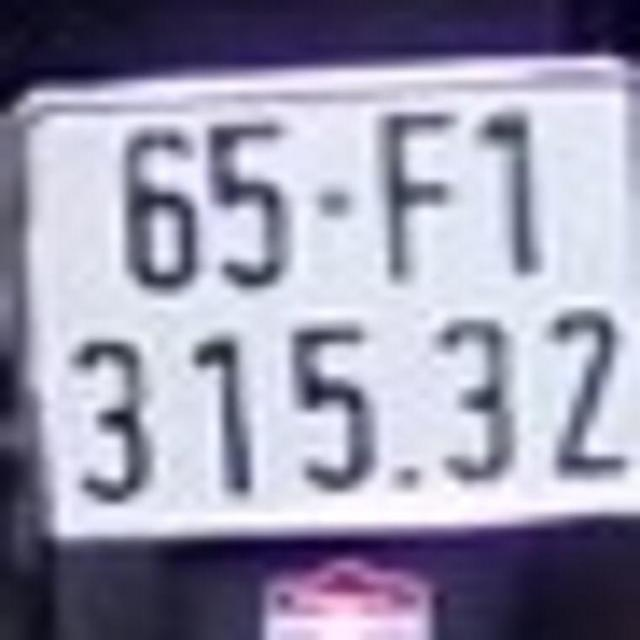1: (184, 329, 268, 504), (468, 99, 549, 280)
2: (543, 297, 636, 481)
3: (430, 308, 522, 487), (65, 333, 156, 504)
5: (283, 318, 382, 492), (207, 116, 297, 298)
6: (112, 120, 204, 296)
F: (368, 102, 458, 286)
